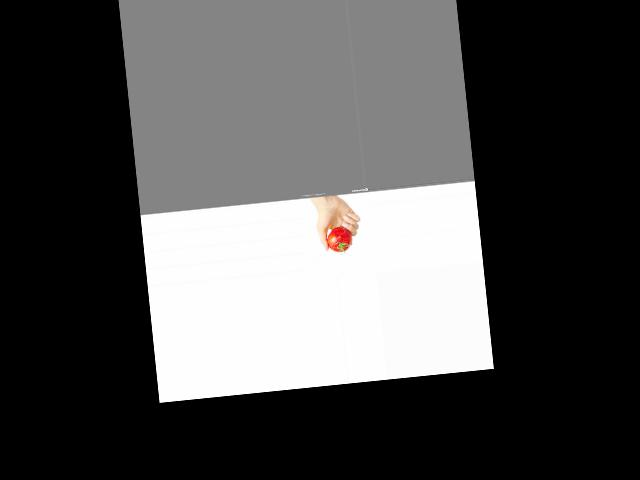tomato: (325, 225, 352, 253)
